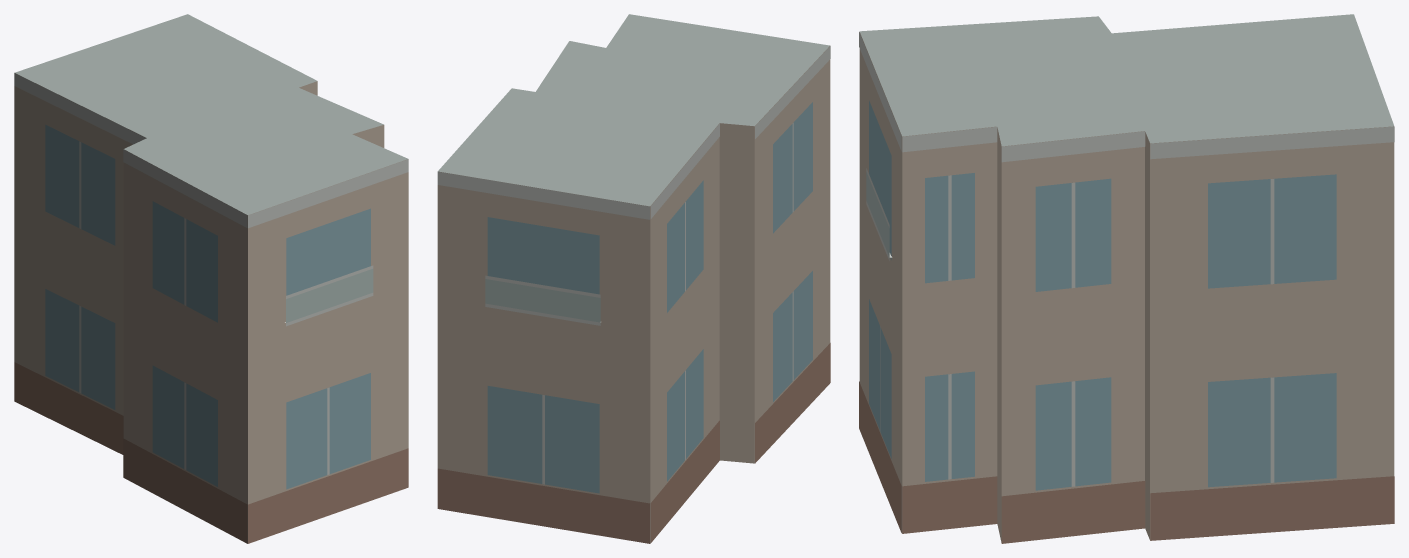
The model's file is survey-upis-32819694.glb.
3 views of the same model, side by side, from view 1: azimuth 30°, elevation 25°; view 2: azimuth 150°, elevation 25°; view 3: azimuth 270°, elevation 25° (orthographic). The views are drawn at different scales.
Visible parts, largest first — view 1: survey-upis-32819694.tmp; view 2: survey-upis-32819694.tmp; view 3: survey-upis-32819694.tmp.
Part boxes in pixels (x1,y1,x2,y2): survey-upis-32819694.tmp: [14, 14, 408, 543]; survey-upis-32819694.tmp: [437, 14, 830, 543]; survey-upis-32819694.tmp: [859, 14, 1394, 543].
Size of the model in its own units: 4.37 by 6.1 by 7.46.
